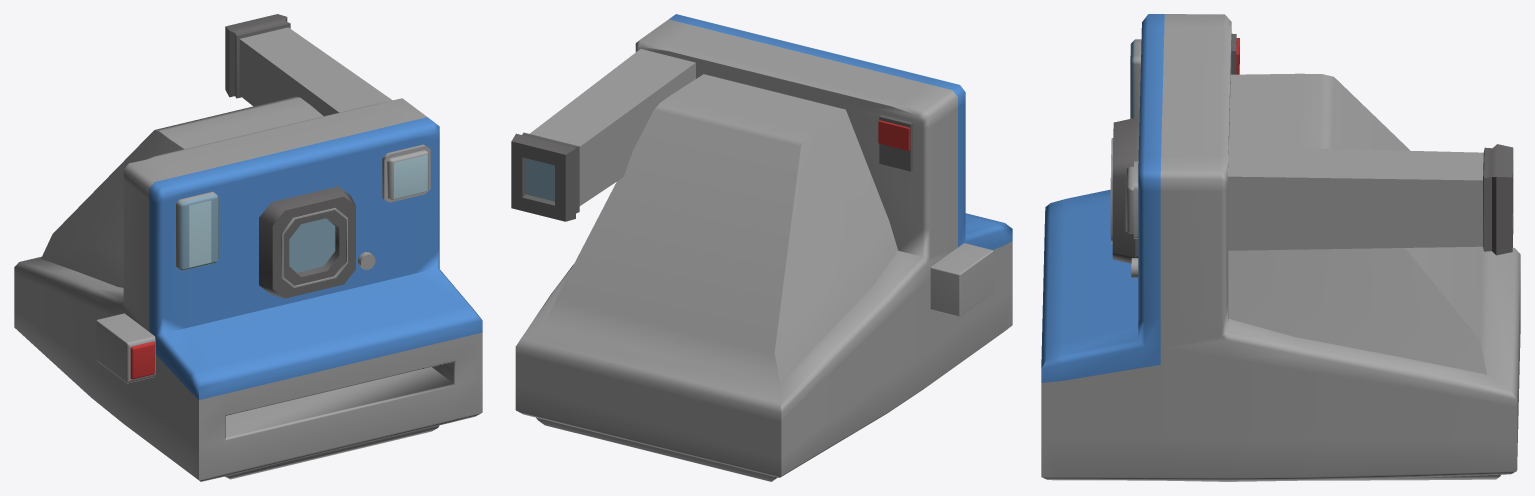
File: Camera_Instant_1.glb
3 renders of one model, left to right at view 1: azimuth 30°, elevation 25°; view 2: azimuth 150°, elevation 25°; view 3: azimuth 270°, elevation 25°, orthographic. The views are drawn at different scales.
Parts seen in each view (by area): view 1: Camera_Instant_1; view 2: Camera_Instant_1; view 3: Camera_Instant_1.
Boxes of the visible parts, x1,y1,x2,y2 form: Camera_Instant_1: [14, 14, 482, 481]; Camera_Instant_1: [511, 14, 1012, 481]; Camera_Instant_1: [1041, 14, 1520, 481].
Size of the model in its own units: 0.1917 by 0.1625 by 0.218.
Materials: 1 (1 with a texture image).
